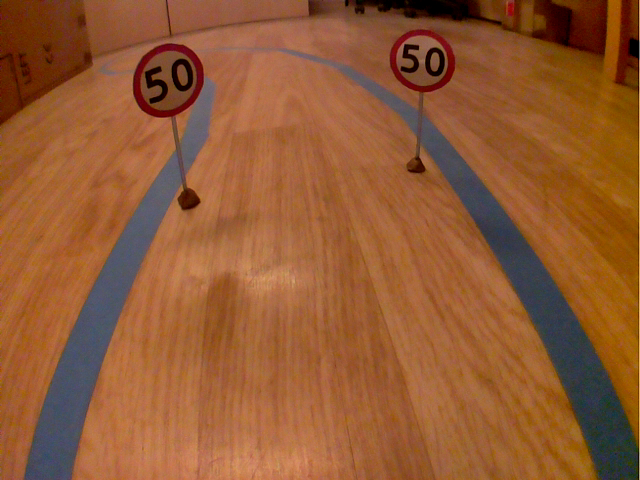Ograniczenie 50: (128, 39, 208, 120), (385, 26, 458, 97)
